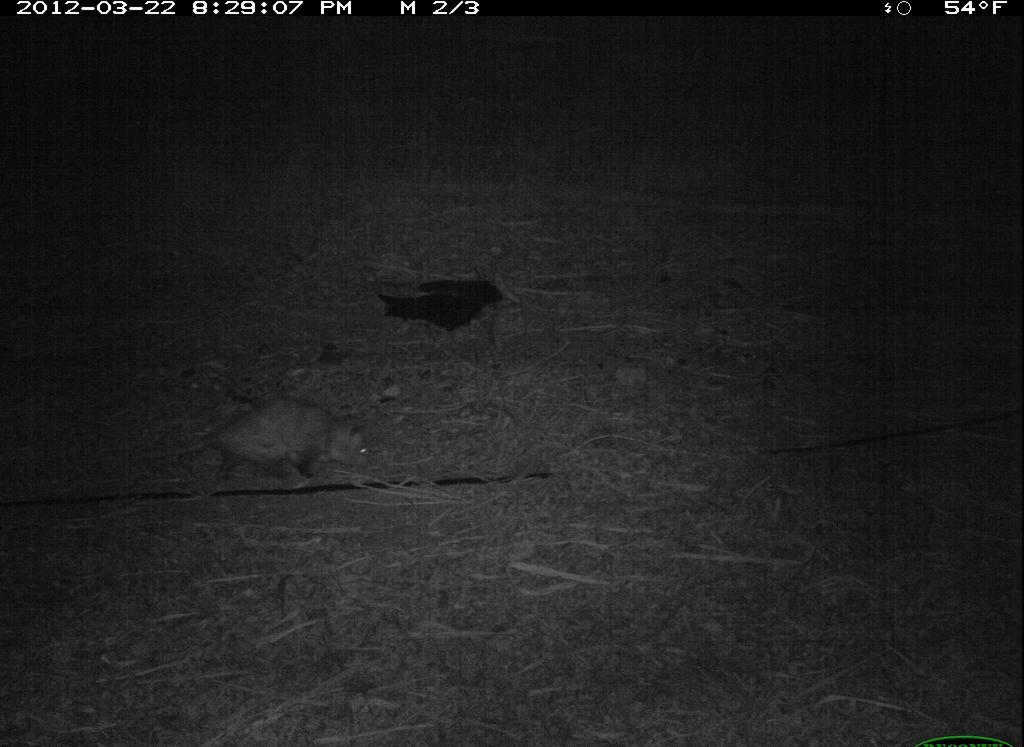opossum: (105, 391, 382, 509)
